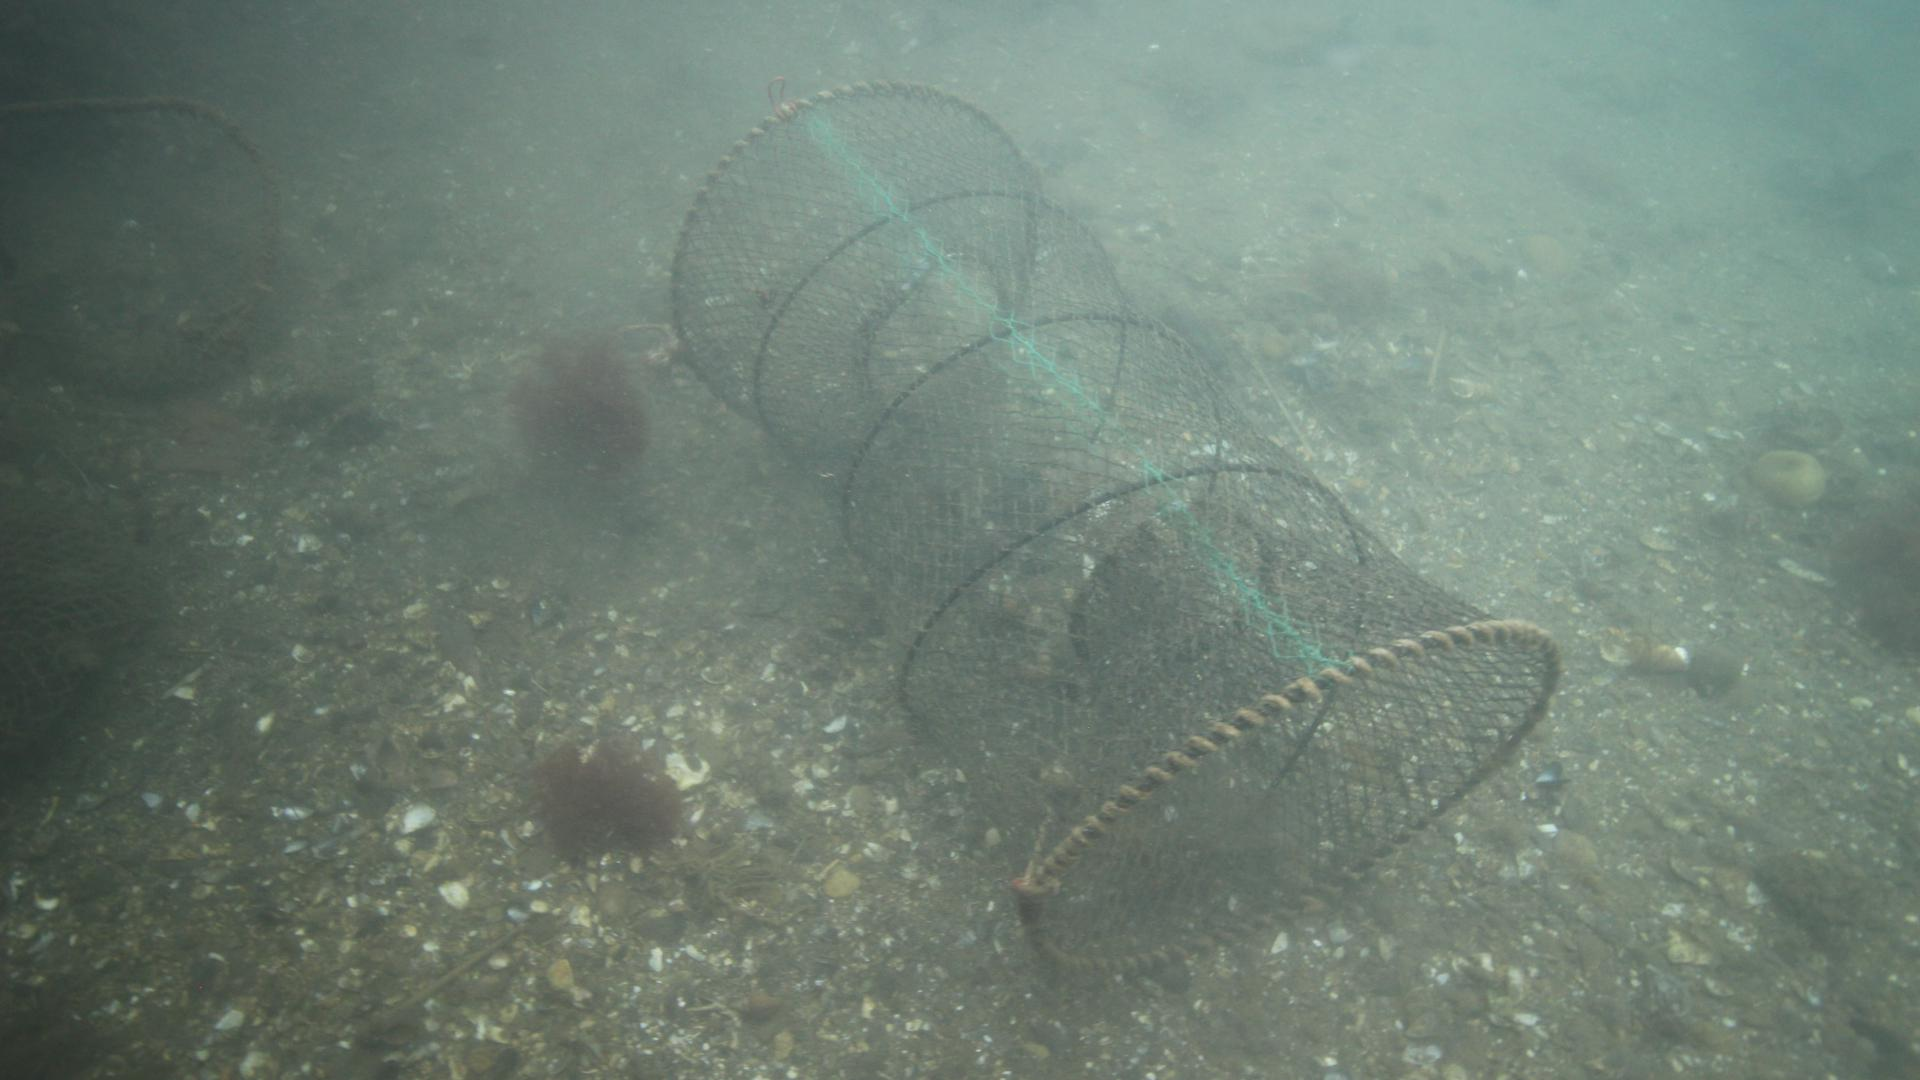spring fish trap: (666, 76, 1564, 982)
